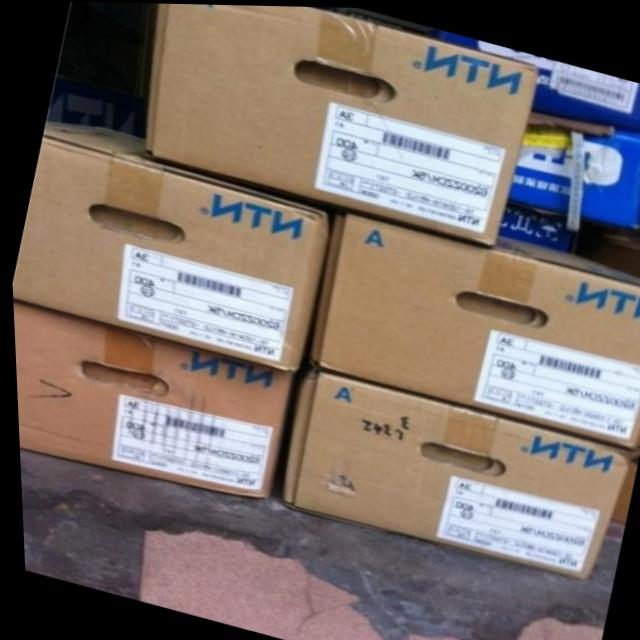box: (143, 3, 543, 245), (10, 125, 332, 377), (307, 211, 640, 445), (277, 366, 630, 577), (10, 297, 292, 497), (437, 30, 640, 132), (503, 110, 640, 227)
